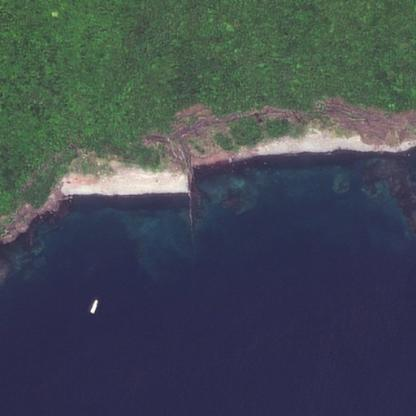ship: (84, 292, 102, 317)
